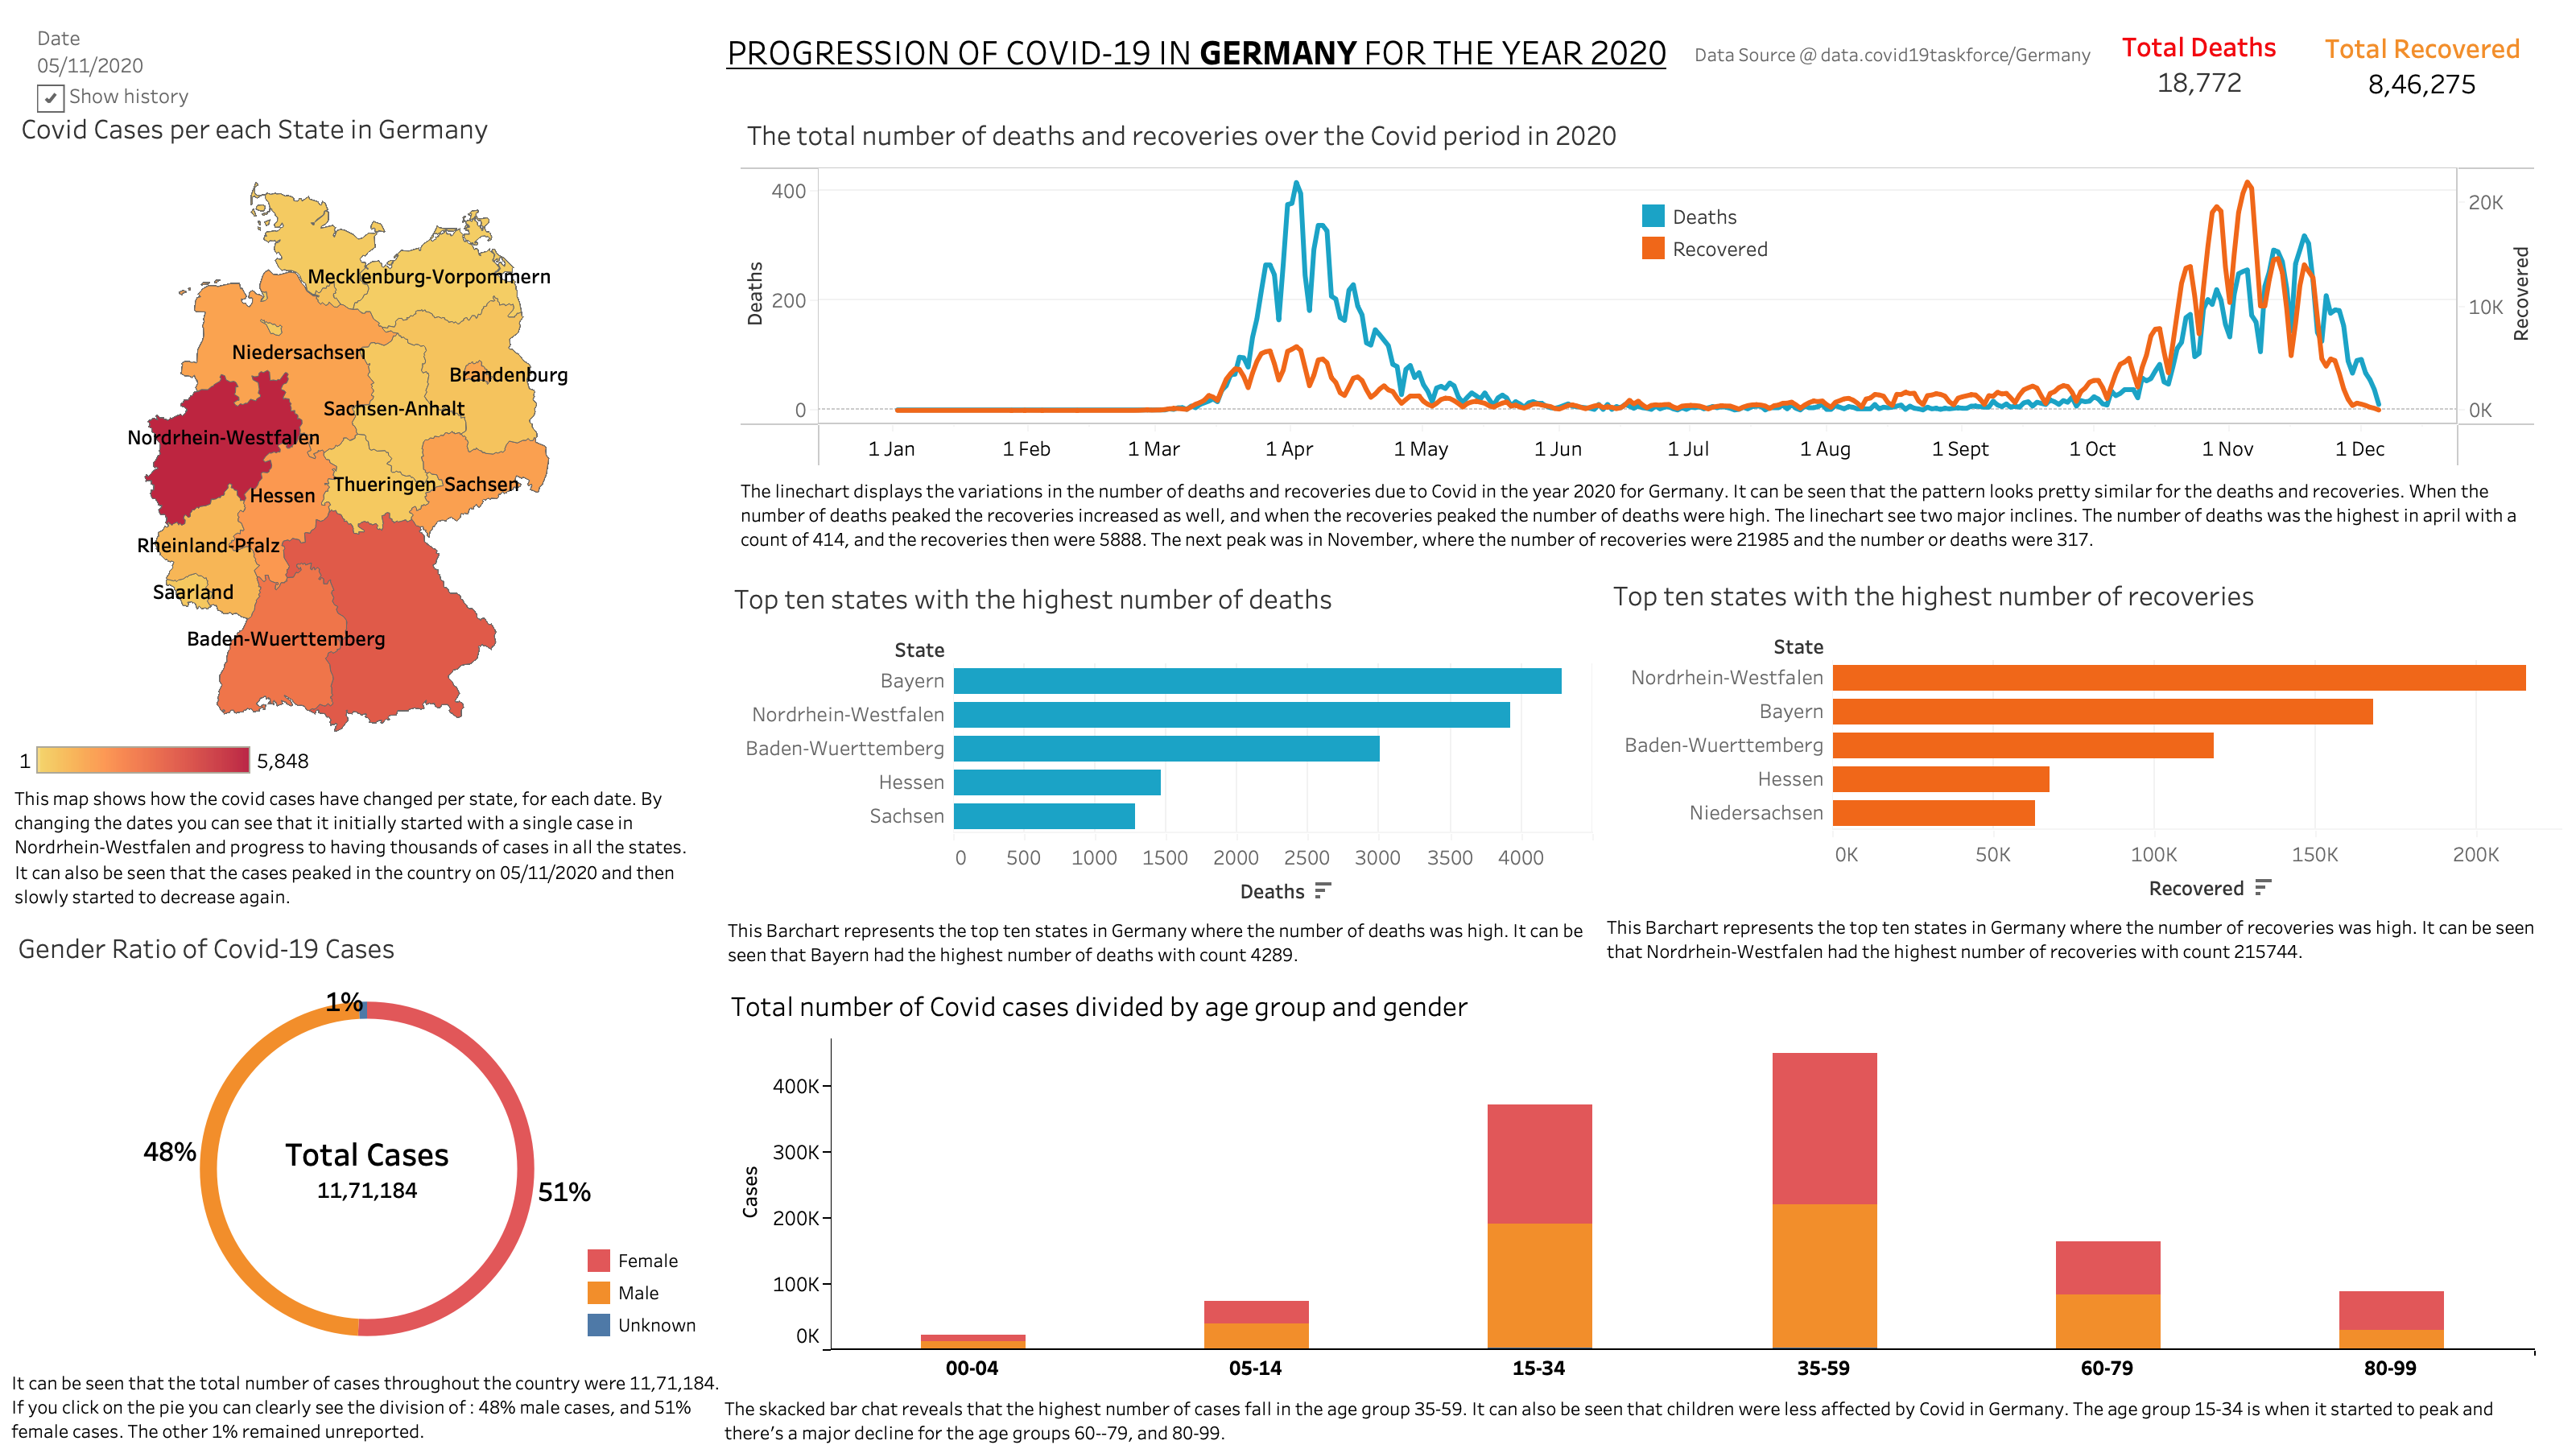

What the dashboard file says about the page in this screenshot:
{"tool":"tableau","page":{"name":"Dashboard ","canvas":[1600,900],"ordinal":0},"visuals":[{"type":"text","box":[449,11,593,42]},{"type":"currpage","title":"State Cases","box":[23,14,326,58]},{"type":"text","box":[1050,19,252,30]},{"type":"worksheet","title":"State Cases","mark":"Automatic","box":[9,62,420,506]},{"type":"worksheet","title":"Recovered/Deaths Linechart","mark":"Automatic","rows":["deaths","recovered"],"cols":["date"],"box":[460,66,1115,280]},{"type":"legend","title":"Recovered/Deaths Linechart","param":"[federated.05se5is0jmpnw10zwethj0lfy5m4].[:Measure Names]","box":[1017,124,224,45]},{"type":"worksheet","title":"Recovered Barchart","mark":"Automatic","rows":["state"],"cols":["recovered"],"box":[998,352,593,276]},{"type":"worksheet","title":"Deaths Barchart","mark":"Automatic","rows":["state"],"cols":["deaths"],"box":[452,354,537,273]},{"type":"legend","title":"State Cases","param":"[federated.05se5is0jmpnw10zwethj0lfy5m4].[sum:cases:qk]","box":[8,460,189,26]},{"type":"worksheet","title":"Gender Ratio","mark":"Pie","rows":["Calculation_6183301606133301251","Calculation_6183301606134239237"],"box":[7,571,442,328]},{"type":"worksheet","title":"Age Group","mark":"Automatic","rows":["cases"],"cols":["age_group"],"box":[450,607,1124,292]},{"type":"legend","title":"Age Group","param":"[federated.05se5is0jmpnw10zwethj0lfy5m4].[none:gender:nk]","box":[362,773,179,72]}]}

Visuals, with their boxes in screenshot pixels (x1, y1, x2, y2), scaled from the page's 1600x900 canvas onto the 2576x1449 screenshot:
text: rect(723, 18, 1678, 85)
"State Cases" currpage: rect(37, 23, 562, 116)
text: rect(1690, 31, 2096, 79)
"State Cases" worksheet: rect(14, 100, 691, 914)
"Recovered/Deaths Linechart" worksheet: rect(741, 106, 2536, 557)
"Recovered/Deaths Linechart" legend: rect(1637, 200, 1998, 272)
"Recovered Barchart" worksheet: rect(1607, 567, 2562, 1011)
"Deaths Barchart" worksheet: rect(728, 570, 1592, 1009)
"State Cases" legend: rect(13, 741, 317, 782)
"Gender Ratio" worksheet (Pie marks): rect(11, 919, 723, 1447)
"Age Group" worksheet: rect(724, 977, 2534, 1447)
"Age Group" legend: rect(583, 1245, 871, 1360)
